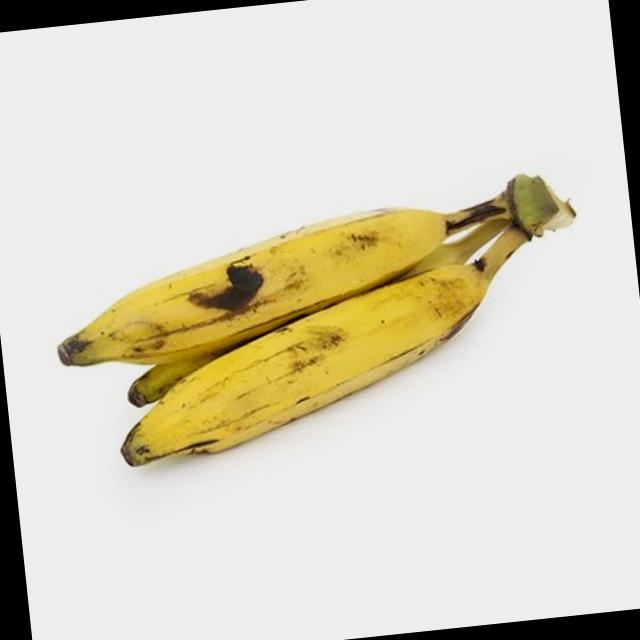banana: (107, 260, 525, 474), (44, 194, 473, 380)
